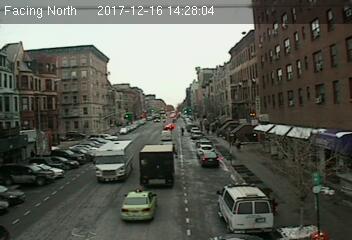car: (121, 189, 156, 219), (200, 152, 220, 167)
police: (218, 182, 273, 232)
truck: (92, 139, 133, 181)
ups: (138, 142, 178, 189)
